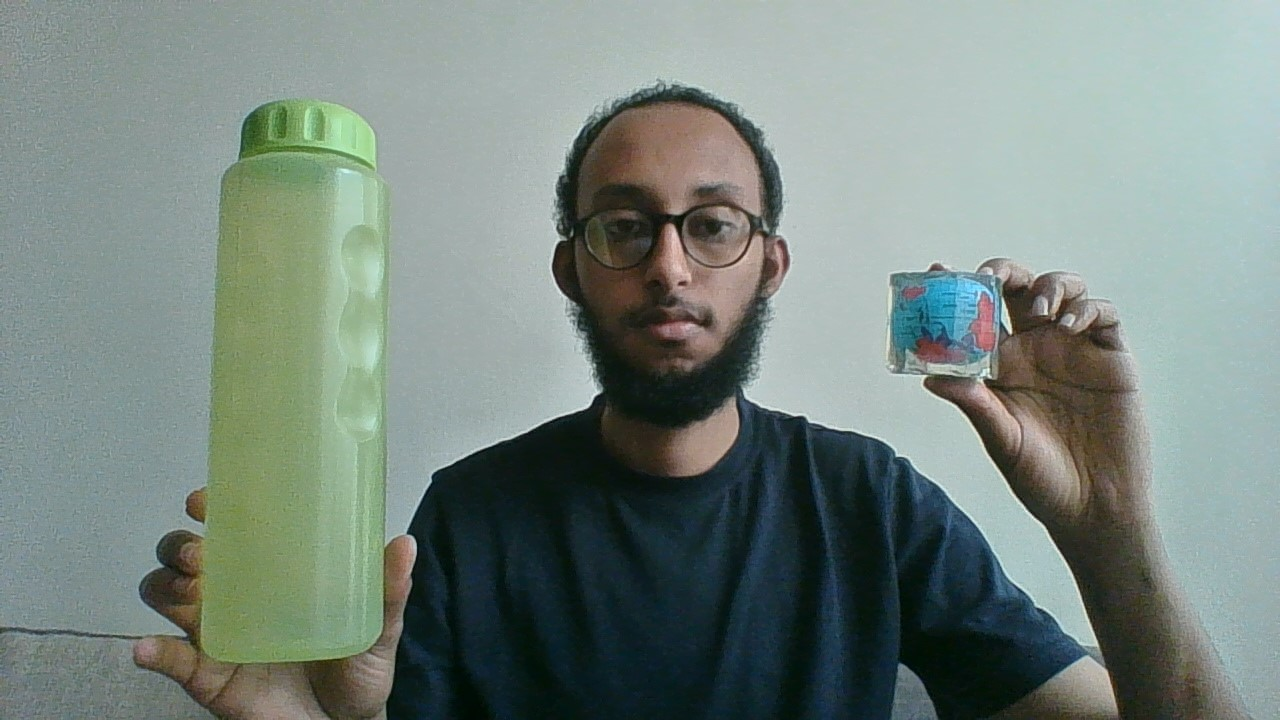Water_bottle: (189, 84, 400, 670)
world_globe: (879, 263, 1009, 386)
